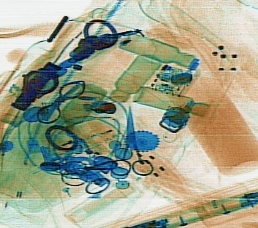scissors: (107, 101, 153, 177)
